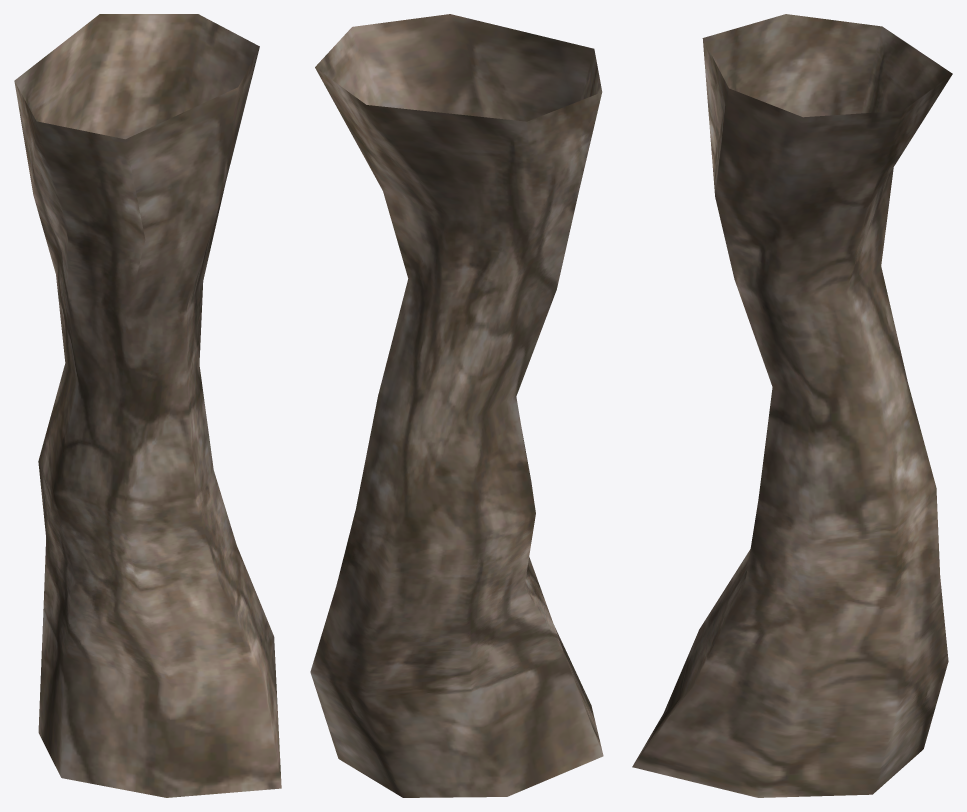
File: EKH_THRONE_PS_TH_CYLINDER07.fbx
3 views of the same model, side by side, from view 1: azimuth 30°, elevation 25°; view 2: azimuth 150°, elevation 25°; view 3: azimuth 270°, elevation 25° (orthographic). The views are drawn at different scales.
Parts seen in each view (by area): view 1: EKH_THRONE_PS_TH_CYLINDER07; view 2: EKH_THRONE_PS_TH_CYLINDER07; view 3: EKH_THRONE_PS_TH_CYLINDER07.
Part boxes in pixels (x1,y1,x2,y2): EKH_THRONE_PS_TH_CYLINDER07: (14,14,281,797); EKH_THRONE_PS_TH_CYLINDER07: (310,14,603,797); EKH_THRONE_PS_TH_CYLINDER07: (632,14,952,797).
Bounding box in the file's own units: 28277 × 75597 × 31956.
Materials: 1 (1 with a texture image).
